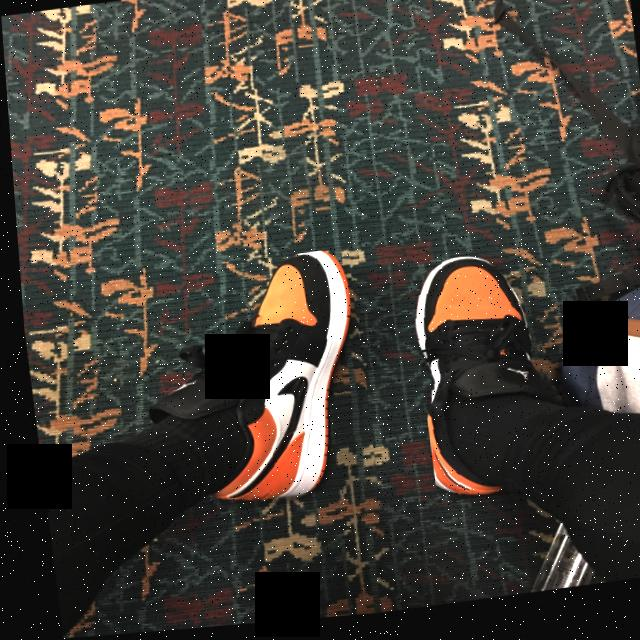shoe: (142, 252, 371, 518), (402, 253, 557, 512)
